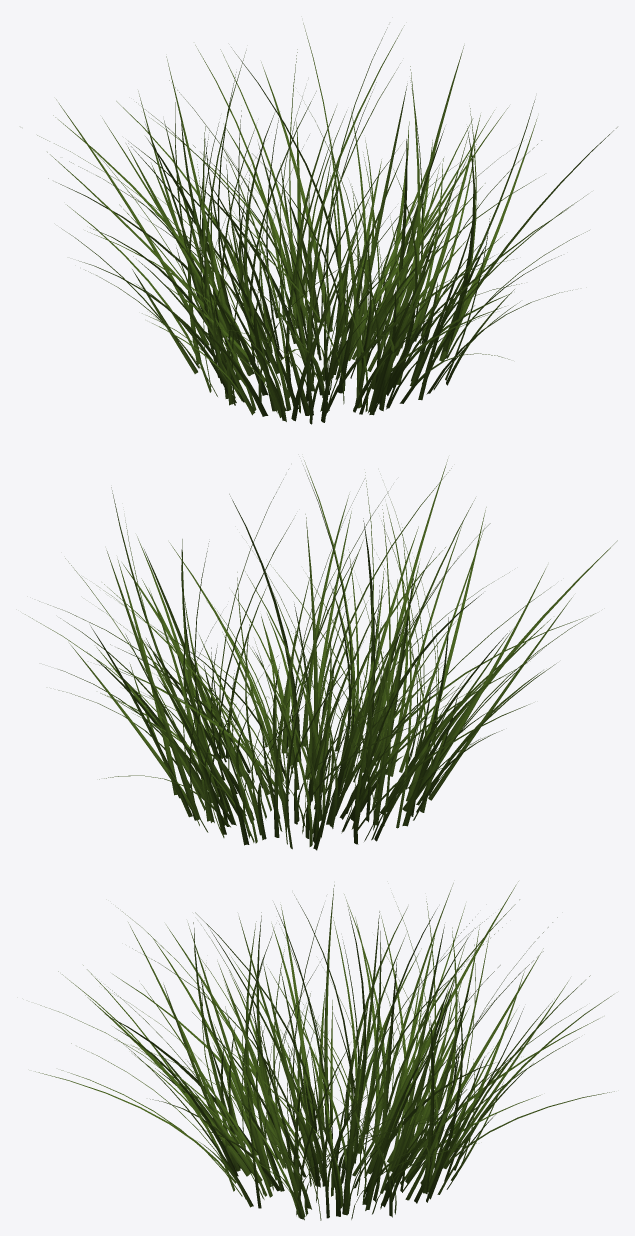
Rendered from grass_meadow_b_lod0.gltf.
The picture shows the model from 3 angles, top to bottom: view 1: azimuth 30°, elevation 25°; view 2: azimuth 150°, elevation 25°; view 3: azimuth 270°, elevation 25°; orthographic projection. The views are drawn at different scales.
Parts seen in each view (by area): view 1: grass_meadow_b_lod0; view 2: grass_meadow_b_lod0; view 3: grass_meadow_b_lod0.
Part boxes in pixels (left/top/right/bottom): grass_meadow_b_lod0: left=37, top=23, right=617, bottom=424; grass_meadow_b_lod0: left=25, top=459, right=617, bottom=850; grass_meadow_b_lod0: left=35, top=881, right=614, bottom=1220.
Bounding box in the file's own units: 1.24 × 0.7029 × 1.44.
1 material, 1 textured.
